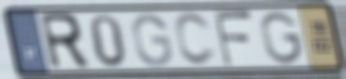0: (87, 13, 129, 68)
C: (172, 11, 219, 68)
F: (211, 9, 257, 69)
G: (258, 11, 306, 66), (130, 12, 175, 68)
R: (37, 11, 93, 72)
